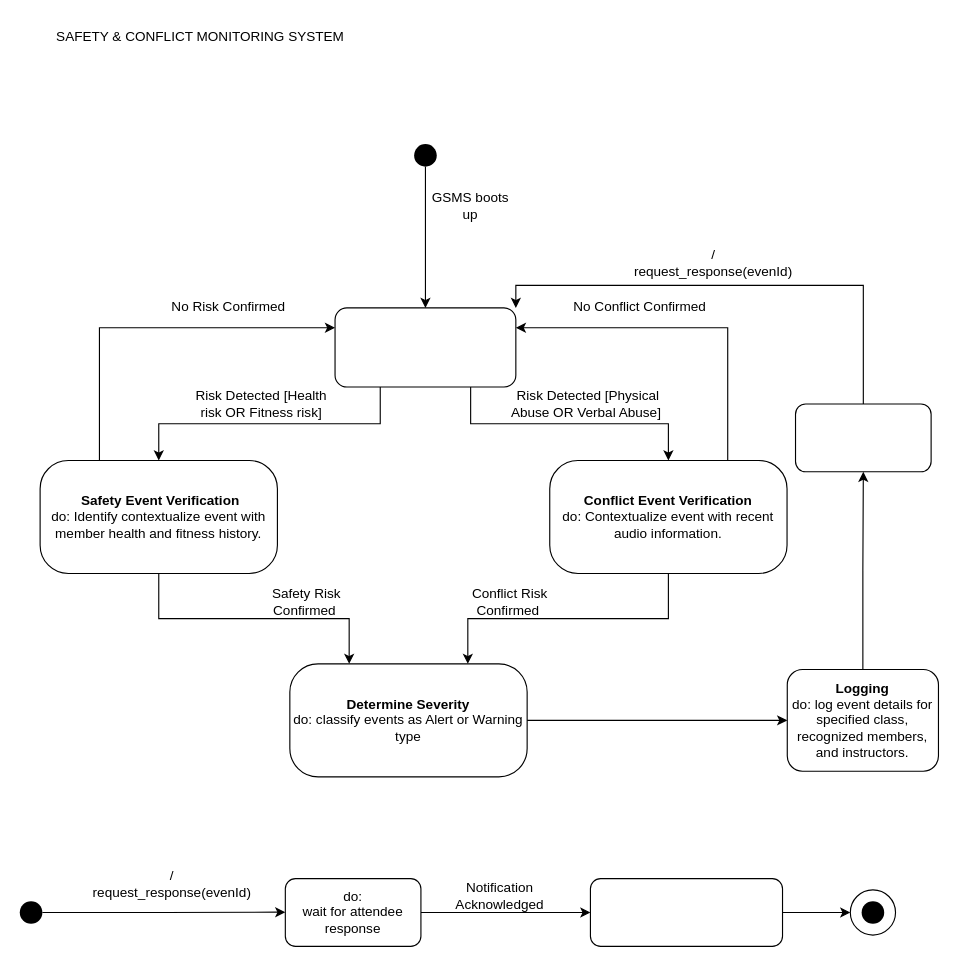
The diagram is 958 pixels wide and 966 high, and some of its shapes have lost their labels. The centre of each missing label's shape, as x and y in pixels:
Monitoring do: analyze camera feed data and member wearable in class: (425,347)
Notifying do: Notify instructor and affected members in class: (862,437)
Update Event Log do: update log of safety event as resolved: (686,911)
